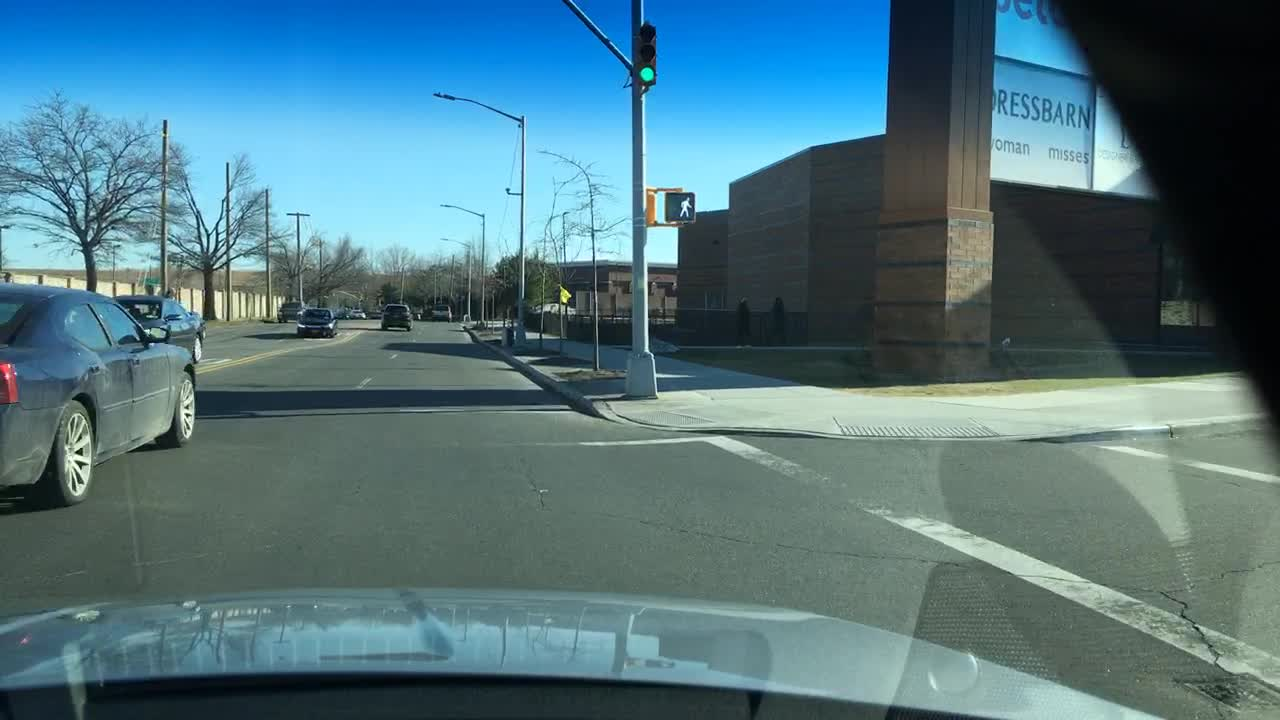car: (0, 282, 197, 503), (109, 293, 204, 361), (296, 305, 337, 337), (852, 294, 874, 346), (379, 303, 415, 333), (273, 297, 302, 322), (531, 302, 577, 314), (428, 303, 452, 320), (347, 308, 366, 320), (367, 306, 383, 320), (334, 308, 347, 320)
person: (766, 295, 786, 341), (732, 293, 751, 341)
traffic light: (638, 20, 658, 81), (663, 192, 697, 221)
traffic sign: (140, 273, 162, 287), (558, 287, 570, 304)
